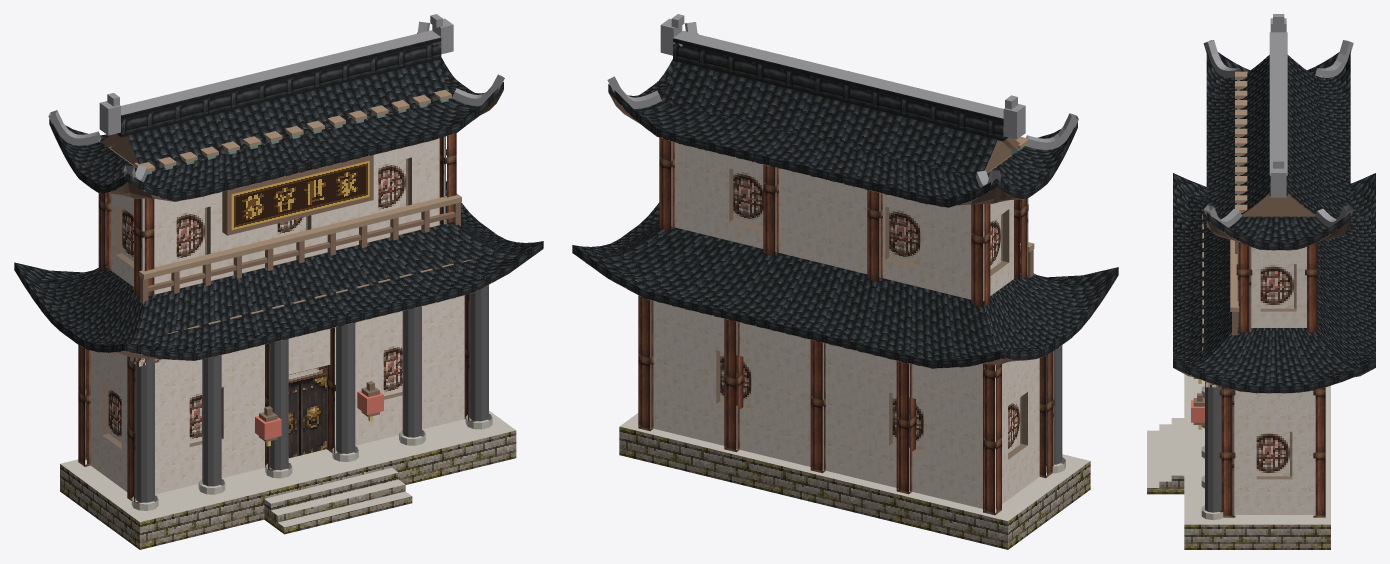
The model's file is g_moyong_lodge.glb.
The picture shows the model from 3 angles, left to right: view 1: azimuth 30°, elevation 25°; view 2: azimuth 150°, elevation 25°; view 3: azimuth 270°, elevation 25°; orthographic projection. The views are drawn at different scales.
Visible parts, largest first — view 1: roof, plaster, col, stone, stonetop, post, eave, ridge, wood, ridgeend, win, woodl (+5 smaller); view 2: plaster, roof, post, stone, eave, ridge, ridgeend, win, stonetop, reveal, under, col (+1 smaller); view 3: roof, plaster, stonetop, post, ridgeend, stone, win, eave, woodl, col, wood, under (+1 smaller).
Boxes of the visible parts, x1,y1,x2,y2 form: roof: (14,33,543,353); plaster: (90,137,464,494); col: (135,285,488,502); stone: (60,430,516,549); stonetop: (60,410,515,527); post: (78,133,476,503); eave: (14,82,543,360); ridge: (117,37,441,137); wood: (101,133,460,441); ridgeend: (48,14,504,182); win: (108,158,408,443); woodl: (134,89,472,334); plaster: (650,141,1039,509); roof: (572,33,1118,360); post: (638,137,1054,515); stone: (619,426,1090,549); eave: (572,84,1118,368); ridge: (673,38,1008,141); ridgeend: (607,14,1078,191); win: (720,169,1021,453); stonetop: (620,413,1089,521); reveal: (716,168,1027,459); under: (575,92,1118,368); col: (1046,345,1062,464); roof: (1173,51,1375,386); plaster: (1234,247,1315,514); stonetop: (1147,374,1330,524); post: (1219,242,1325,517); ridgeend: (1203,14,1353,227); stone: (1147,475,1330,549); win: (1256,264,1296,476); eave: (1173,212,1375,393); woodl: (1202,71,1247,350); col: (1205,381,1221,512); wood: (1193,193,1315,424); under: (1173,220,1373,393).
Bounding box in the file's own units: 79.03 × 73.97 × 40.69.
Materials: 20 (10 with a texture image).
